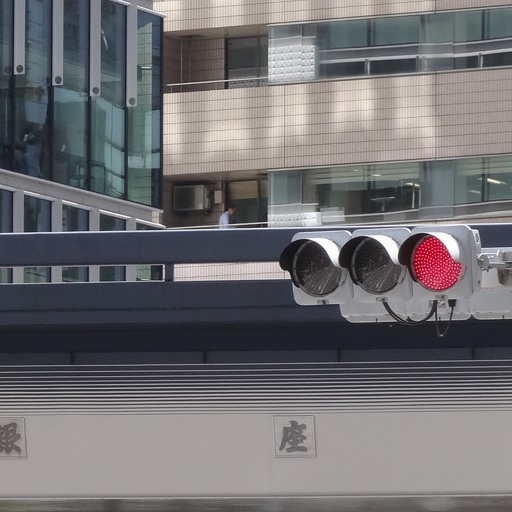Traffic_Signal_Red: (279, 214, 476, 301)
